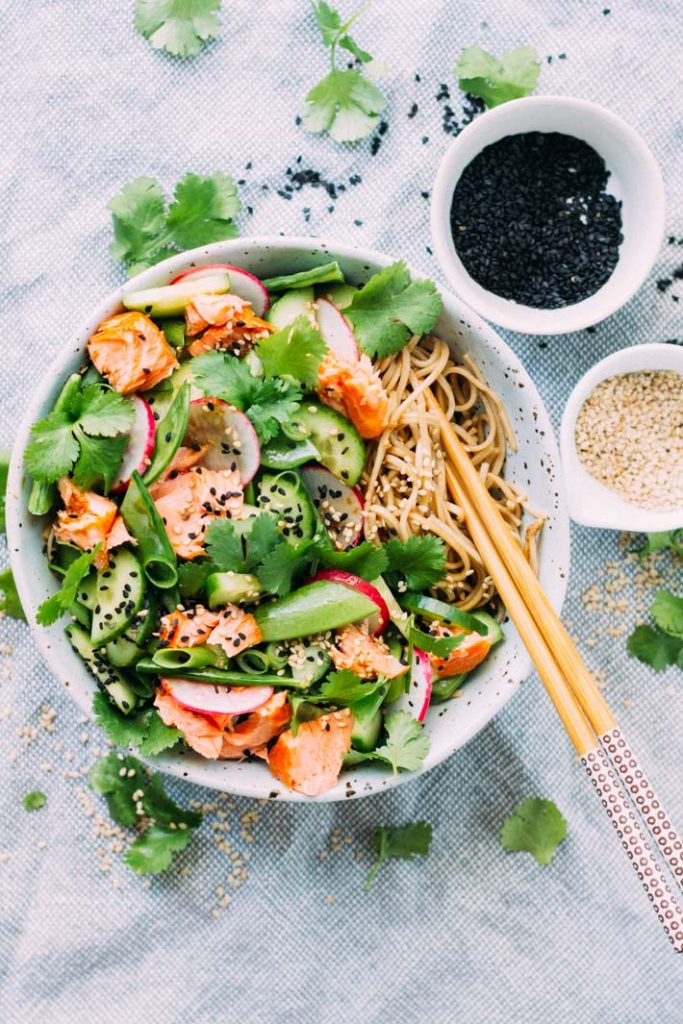Soba: (322, 297, 563, 647)
